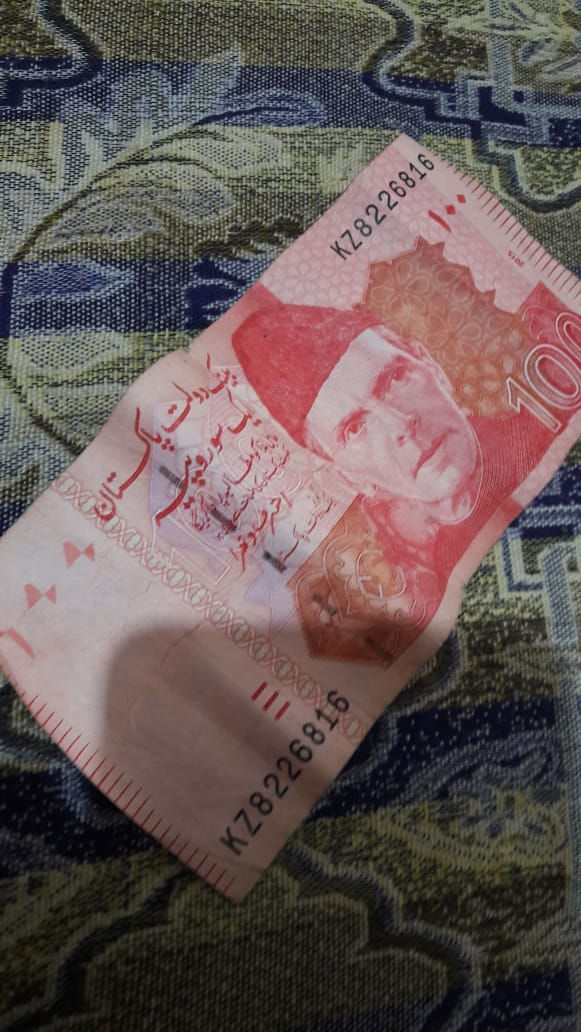100 rupee: (5, 123, 581, 909)
